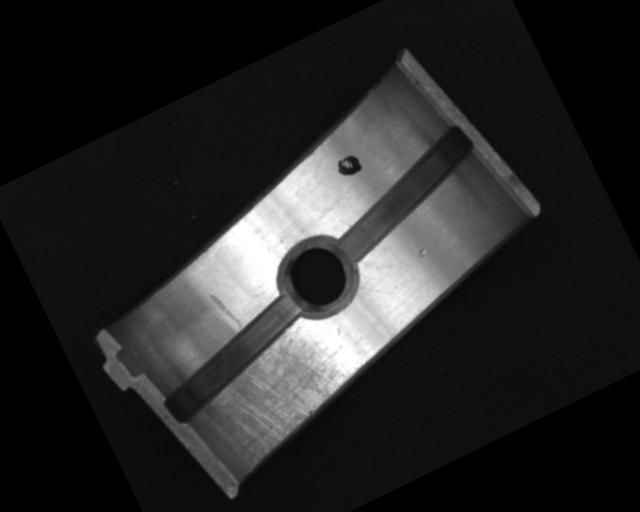blot: (332, 150, 365, 181)
bruise: (415, 245, 429, 260)
gap: (312, 122, 497, 268), (145, 290, 323, 426)
hole: (267, 225, 369, 329)
nick: (207, 286, 245, 338), (356, 274, 391, 307)
scratch: (182, 310, 377, 484)
